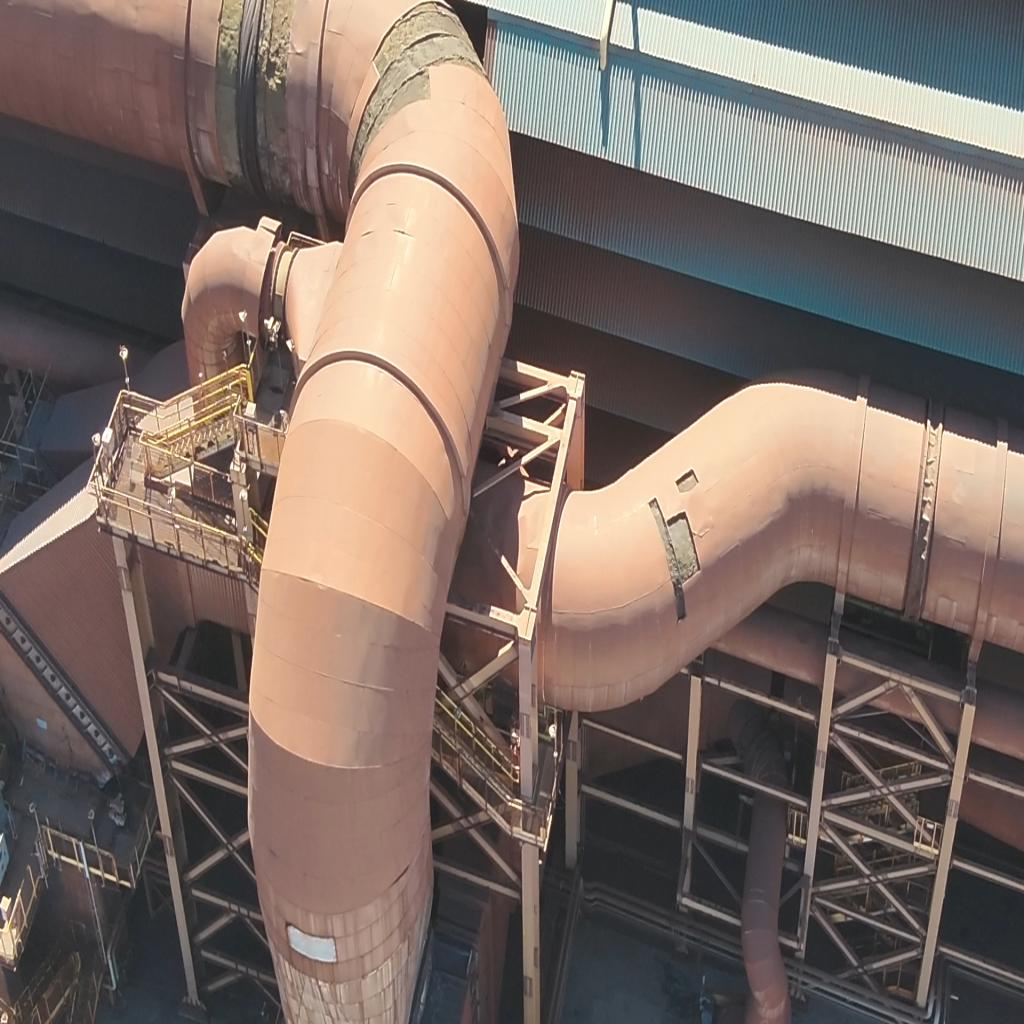Failures: (362, 0, 494, 123), (644, 493, 702, 620), (255, 0, 294, 185), (211, 0, 240, 198), (676, 464, 700, 498)
